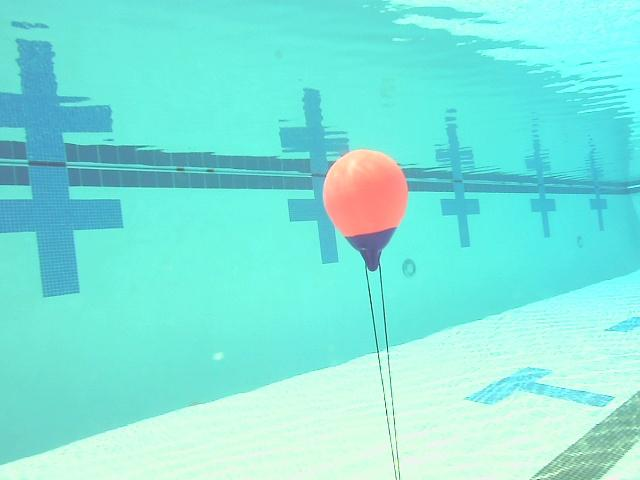buoy: (324, 149, 409, 272)
